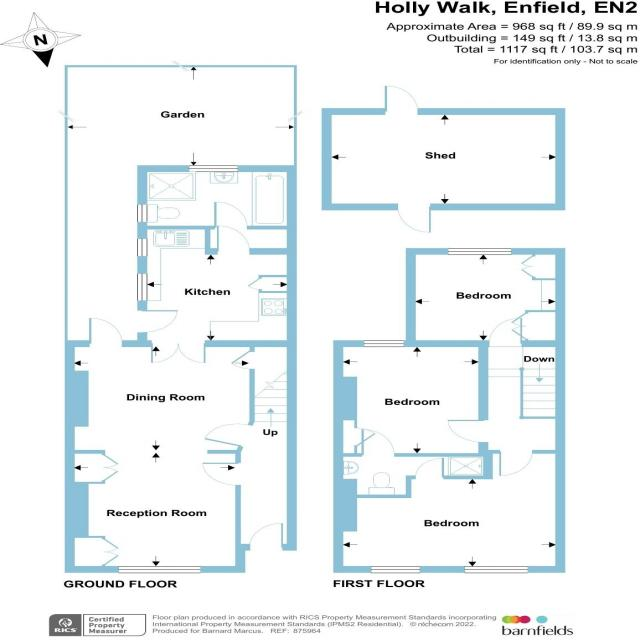DOOR: (150, 340, 207, 364), (203, 423, 253, 448), (200, 461, 242, 487), (88, 317, 123, 348), (488, 317, 524, 347), (446, 418, 488, 443), (216, 225, 251, 255), (137, 310, 178, 334), (249, 523, 284, 551), (498, 449, 534, 476), (414, 457, 444, 480)
ROOM: (65, 317, 255, 573), (333, 450, 565, 573), (137, 225, 297, 365), (333, 340, 493, 457), (406, 248, 565, 347)
WINDOW: (117, 566, 202, 574), (447, 247, 513, 256), (462, 566, 529, 574), (187, 165, 240, 173), (369, 566, 421, 574), (136, 272, 148, 301), (362, 340, 406, 347), (136, 203, 148, 223), (136, 237, 148, 257)
